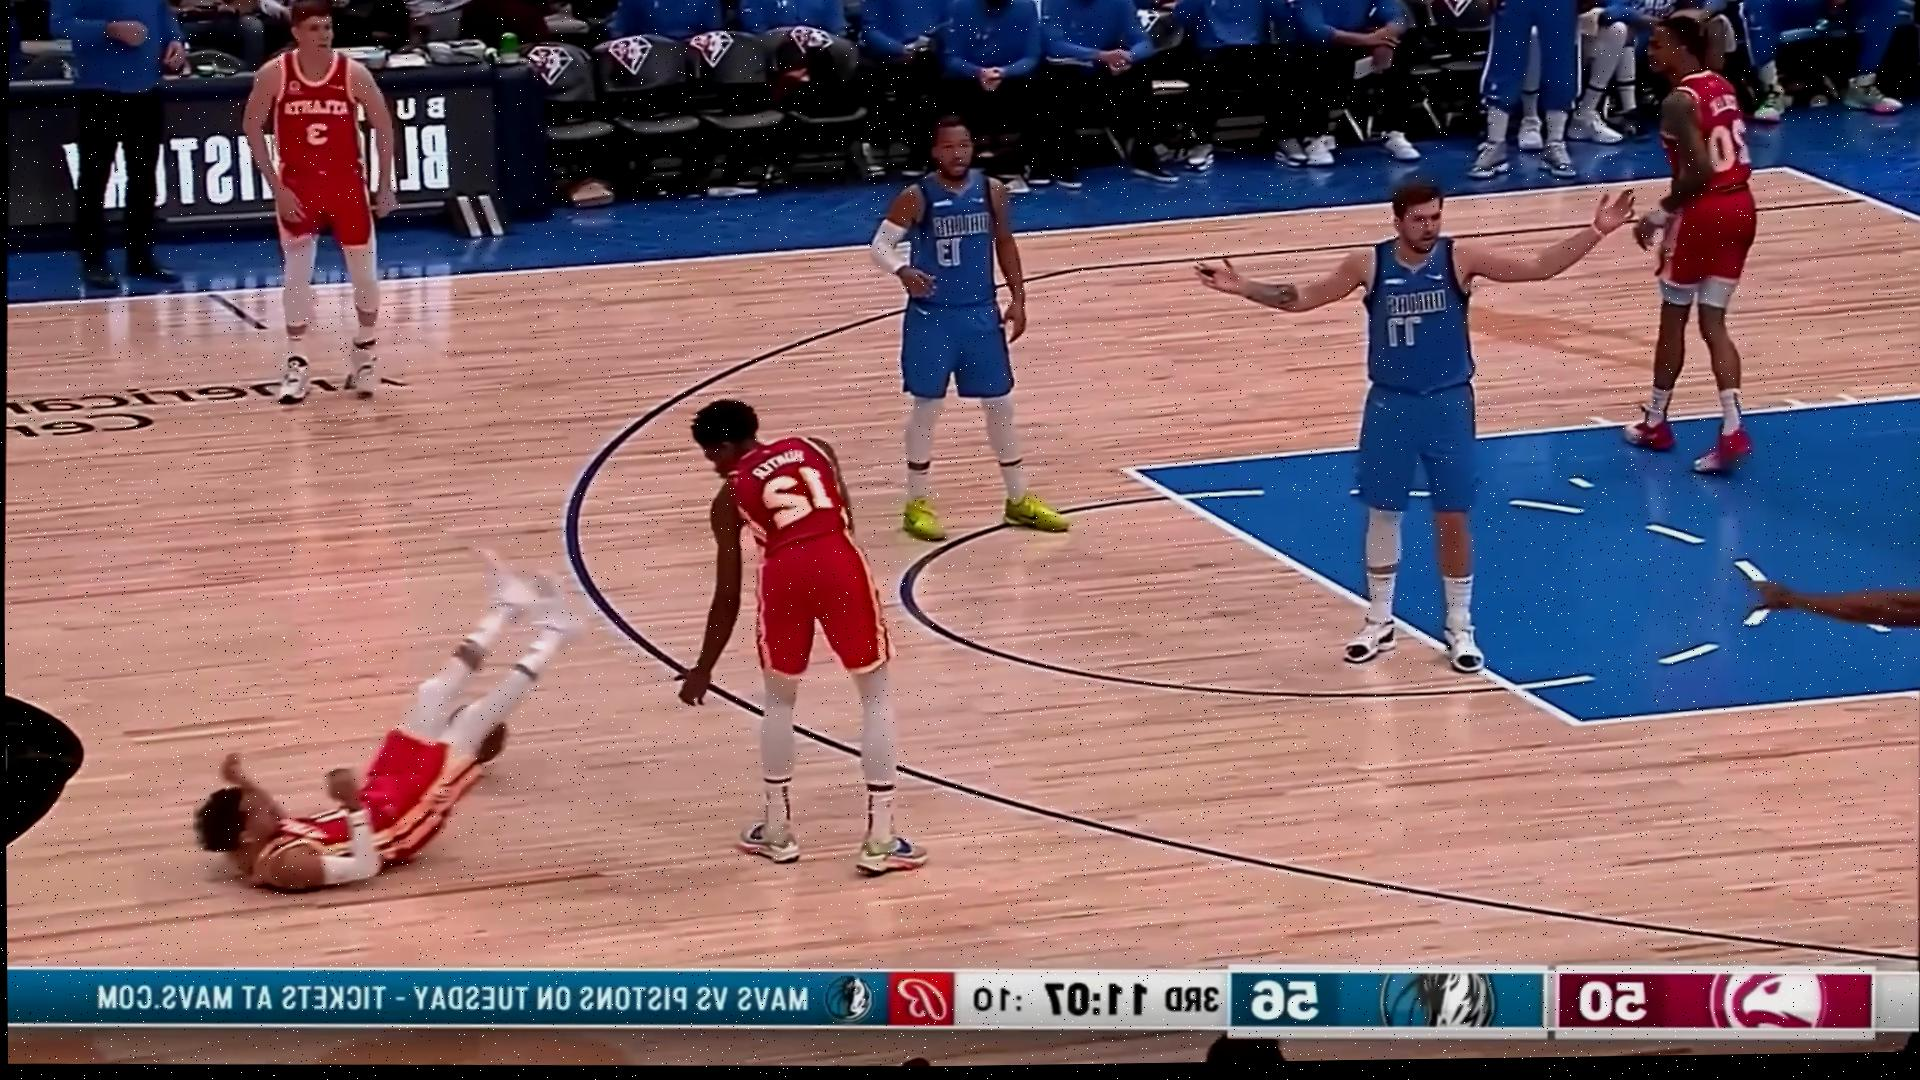no_foul: (650, 108, 1084, 899)
